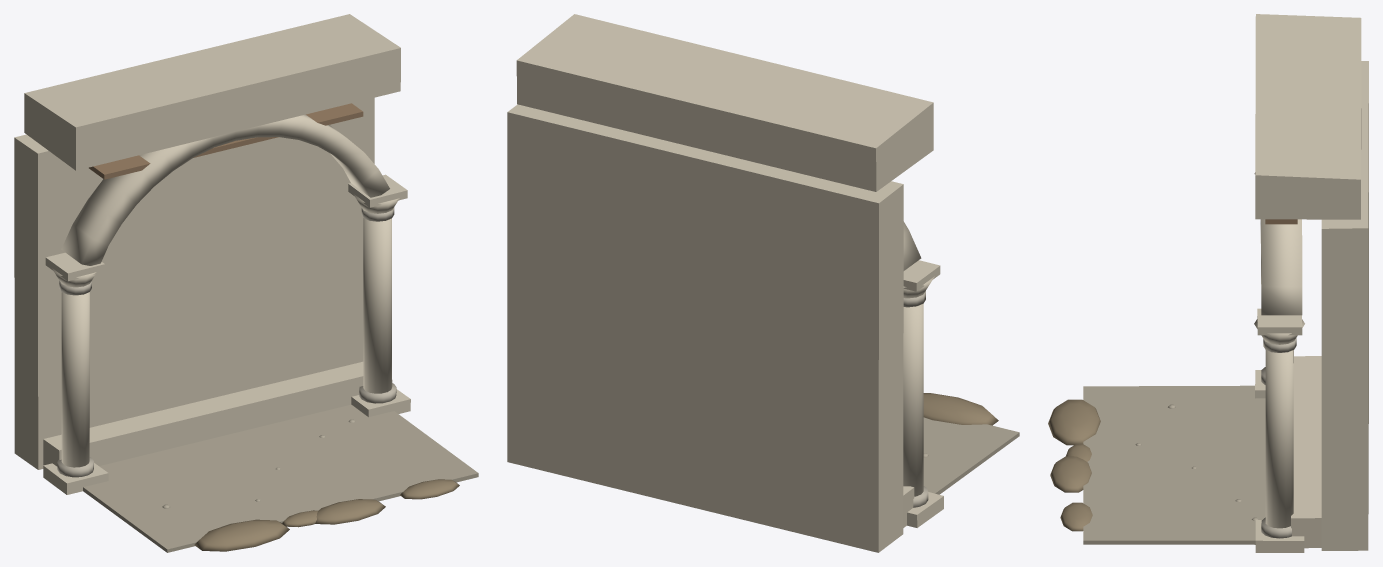
The model's file is cloister_arcade.glb.
3 views of the same model, side by side, from view 1: azimuth 30°, elevation 25°; view 2: azimuth 150°, elevation 25°; view 3: azimuth 270°, elevation 25° (orthographic). The views are drawn at different scales.
Parts seen in each view (by area): view 1: Arcade_Rear, Arcade_Arch, Arcade_Ground, Arcade_Columns; view 2: Arcade_Rear, Arcade_Arch, Arcade_Ground, Arcade_Columns; view 3: Arcade_Ground, Arcade_Arch, Arcade_Rear, Arcade_Columns.
Boxes of the visible parts, x1,y1,x2,y2 form: Arcade_Rear: (14,97,374,469); Arcade_Arch: (24,14,400,265); Arcade_Ground: (83,404,478,552); Arcade_Columns: (43,174,410,494); Arcade_Rear: (507,104,914,552); Arcade_Arch: (516,14,933,270); Arcade_Ground: (923,393,1019,494); Arcade_Columns: (903,260,943,527); Arcade_Ground: (1048,385,1265,544); Arcade_Arch: (1255,14,1361,315); Arcade_Rear: (1291,61,1368,550); Arcade_Columns: (1254,172,1304,552).
Size of the model in its own units: 3.66 by 3.7 by 2.89.
